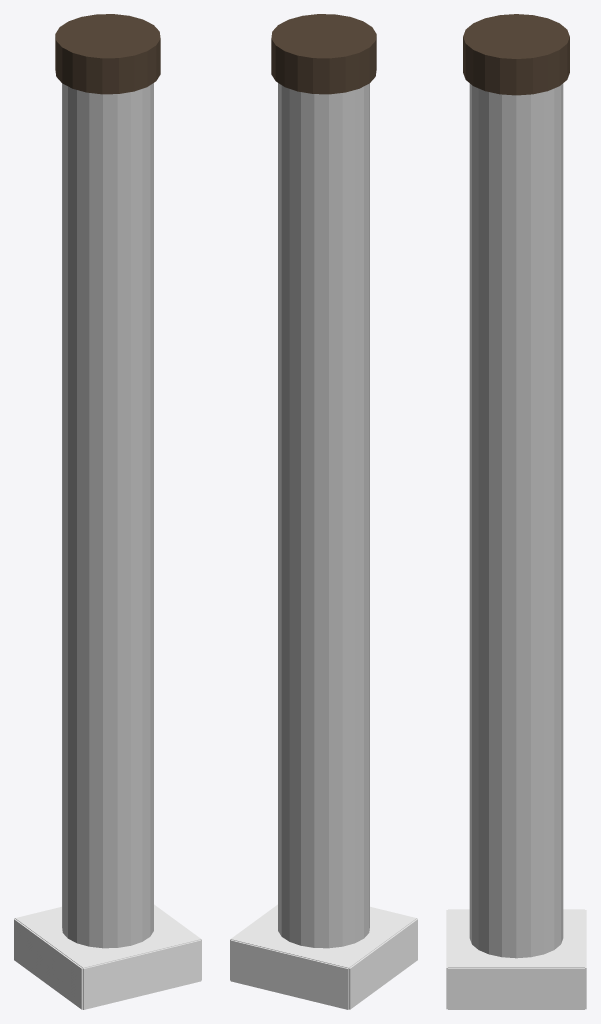
File: pillar.glb
The picture shows the model from 3 angles, left to right: view 1: azimuth 30°, elevation 25°; view 2: azimuth 150°, elevation 25°; view 3: azimuth 270°, elevation 25°; orthographic projection.
Visible parts, largest first — view 1: SM_Pillar; view 2: SM_Pillar; view 3: SM_Pillar.
Boxes of the visible parts, x1,y1,x2,y2 form: SM_Pillar: (14, 14, 201, 1009); SM_Pillar: (230, 14, 417, 1009); SM_Pillar: (446, 14, 586, 1009).
Bounding box in the file's own units: 0.42 × 3.12 × 0.42.
